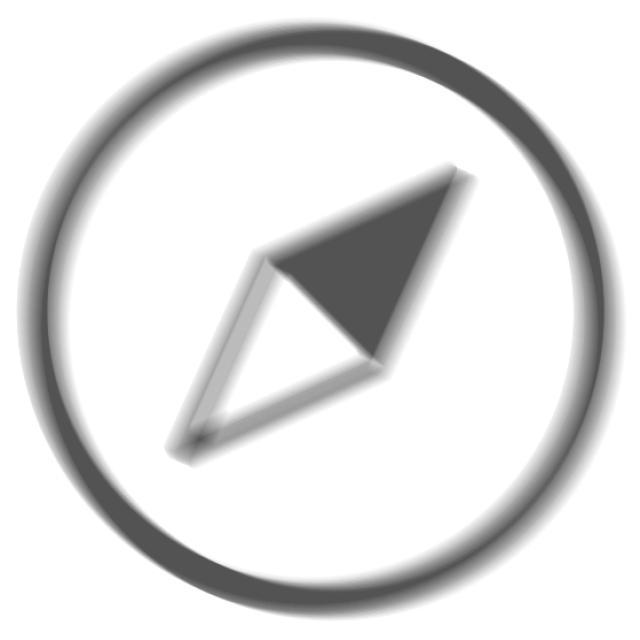compass: (9, 14, 631, 634)
